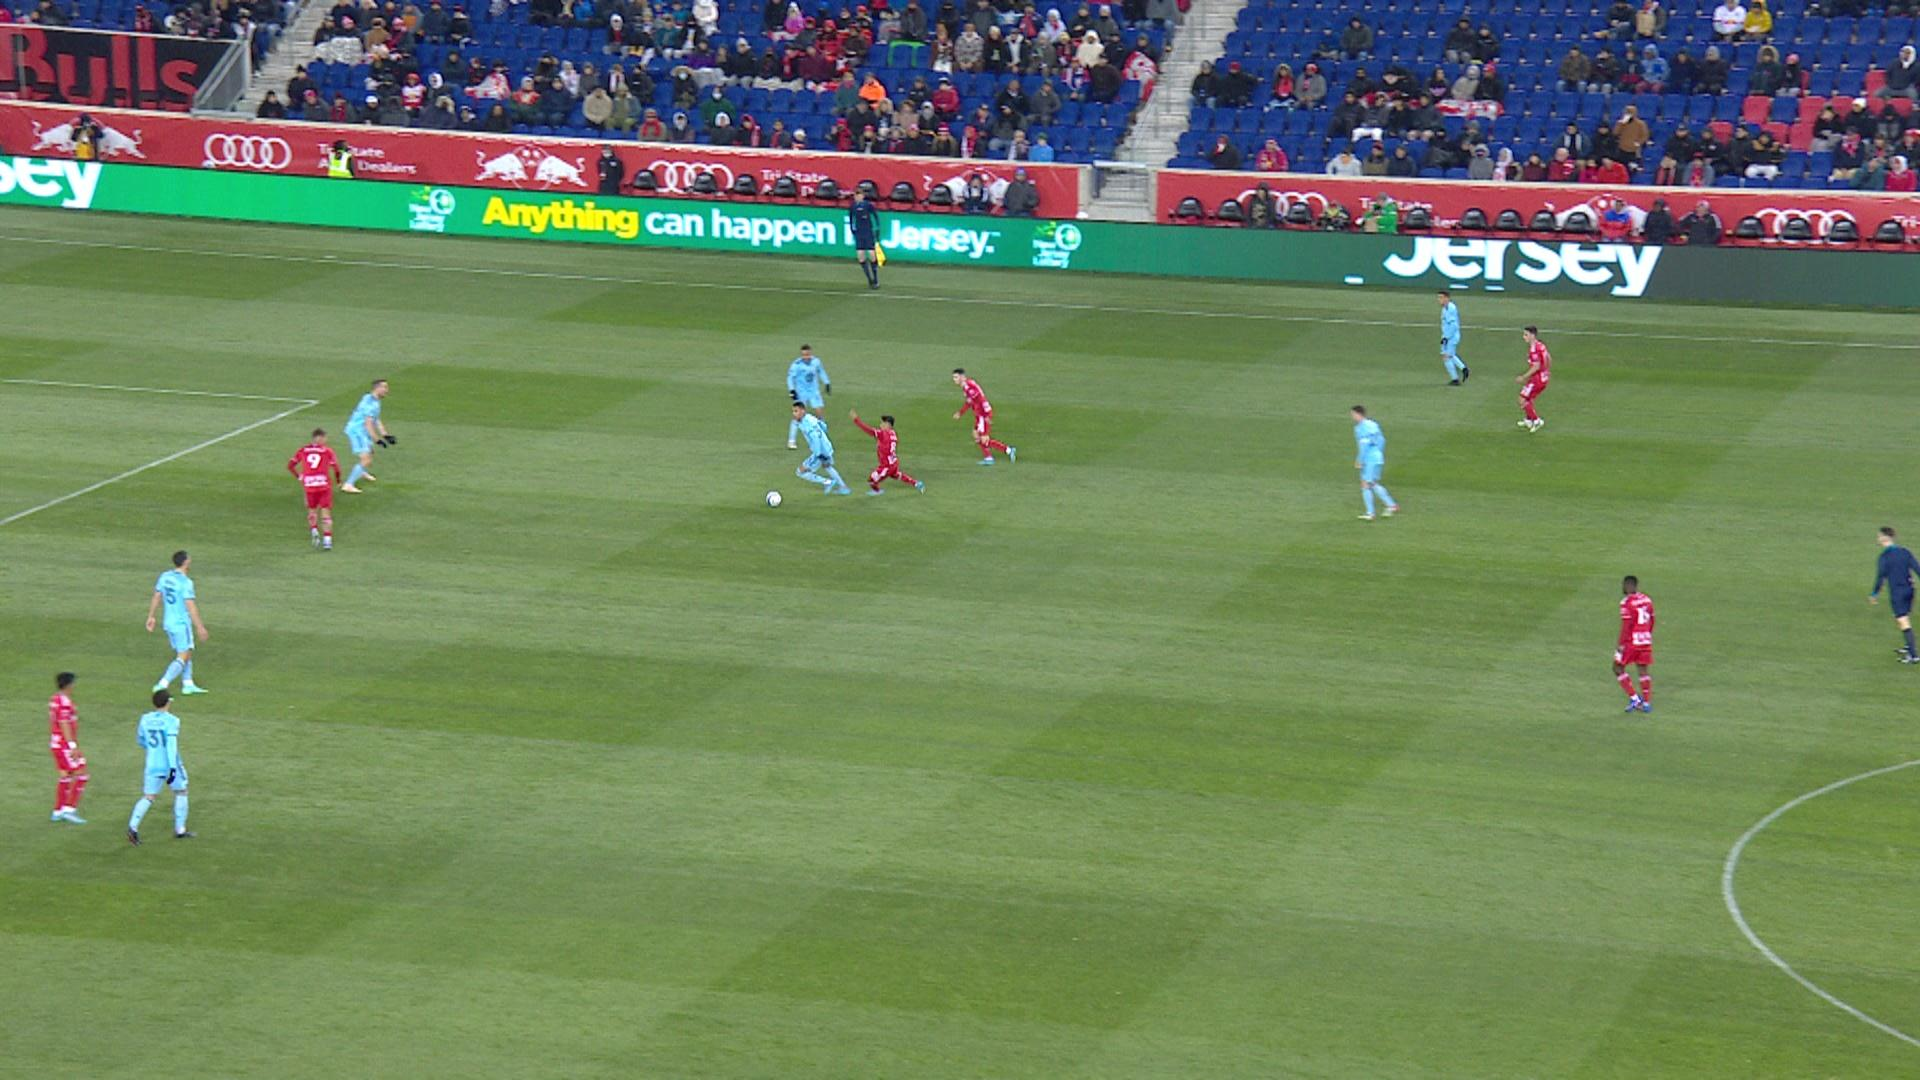football: (765, 491, 783, 508)
